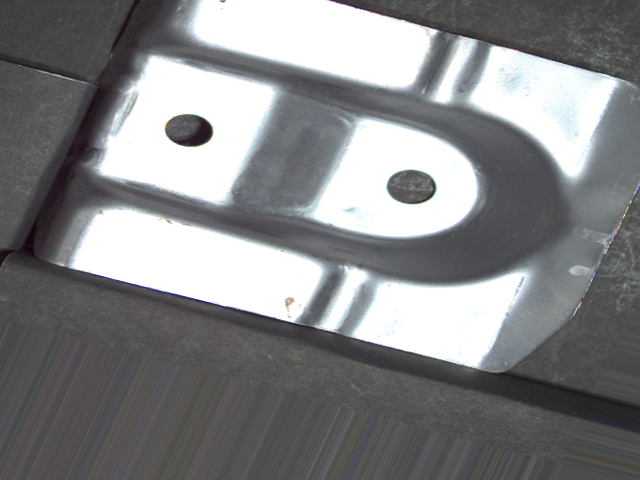defect: (385, 167, 438, 208)
